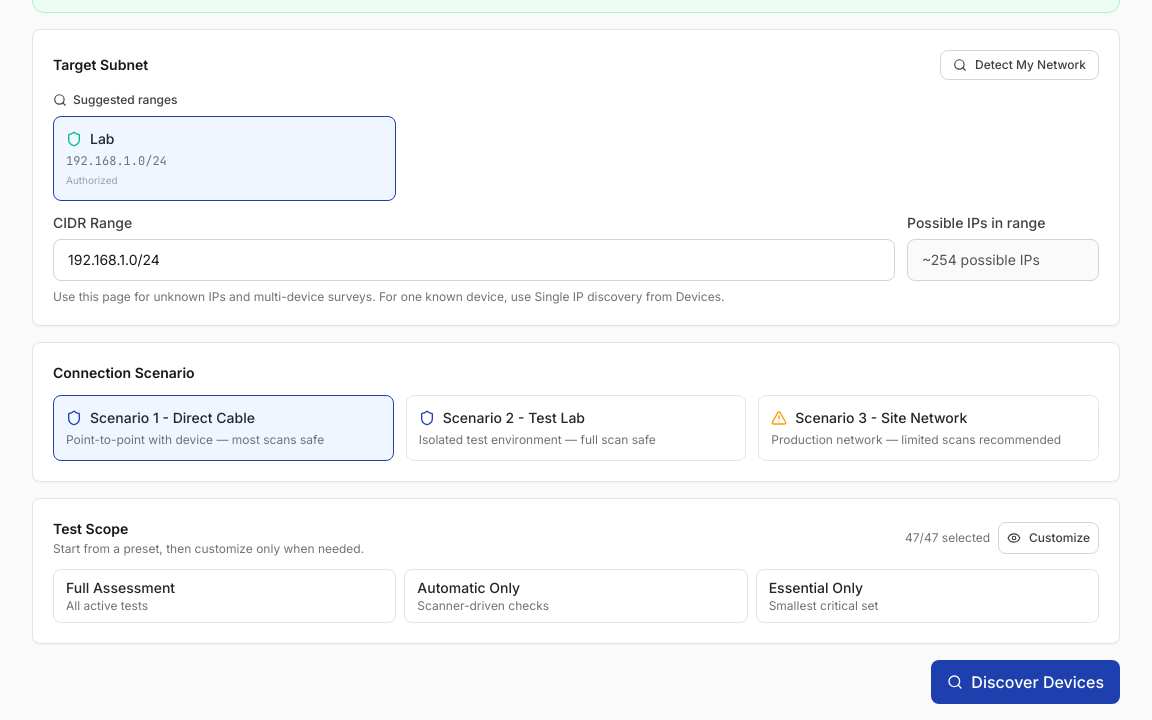
Scenario: NetworkScanPage › surfaces awaiting_manual results with the backend status label
(page scrolled)
Click the button "Discover Devices" at (1026, 682), box [931,660,1120,704]
(page scrolled)
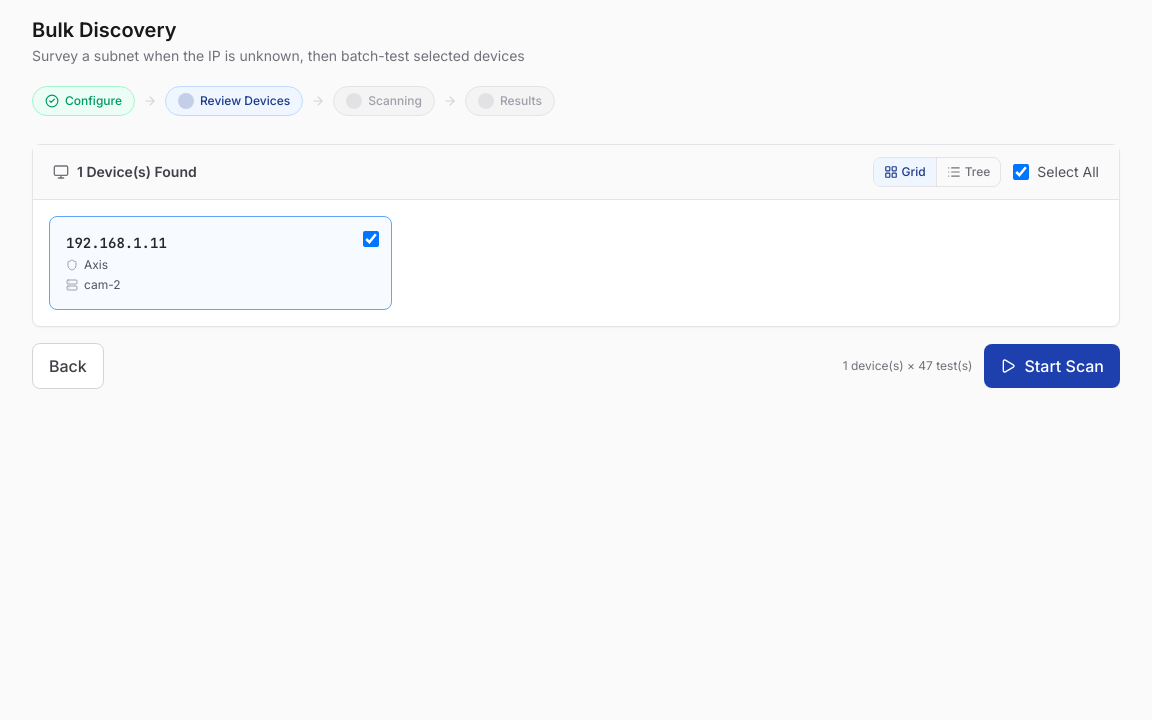
expect the text "1 Device(s) Found" is shown: met, box [77,162,197,182]
Click the button "Start Scan" at (1052, 366), box [984,344,1120,388]
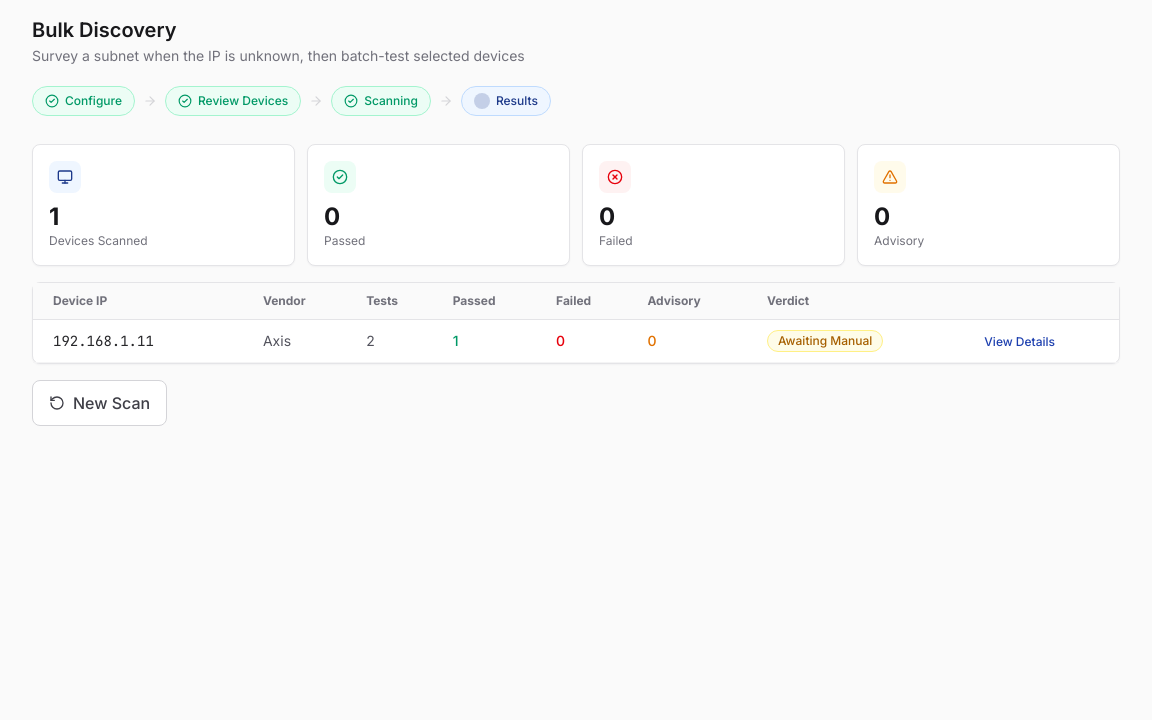
expect the text "Awaiting Manual" is shown: met, box [767,330,883,352]
